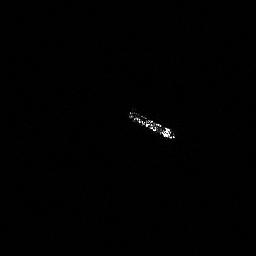ship: (124, 106, 178, 142)
